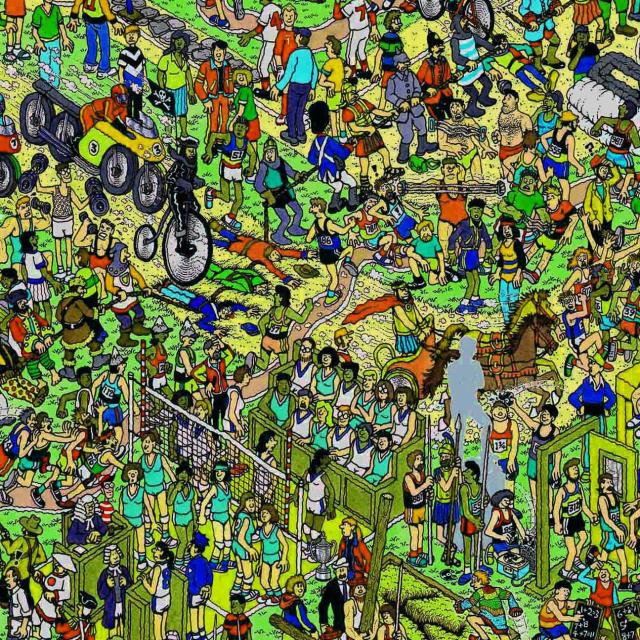waldo: (95, 473, 116, 499)
